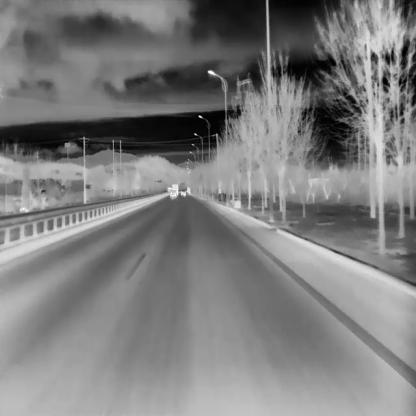car: (169, 190, 176, 198), (180, 189, 185, 195)
truck: (171, 183, 178, 196)
